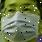with_mask: (1, 1, 42, 42)
